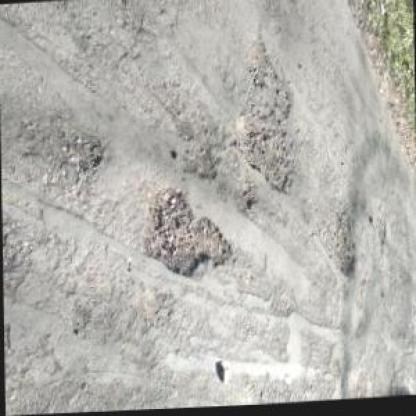pothole: (139, 181, 233, 286), (236, 102, 301, 202), (21, 115, 104, 176), (244, 32, 293, 122), (170, 104, 218, 184), (322, 227, 356, 283), (234, 173, 256, 215)
